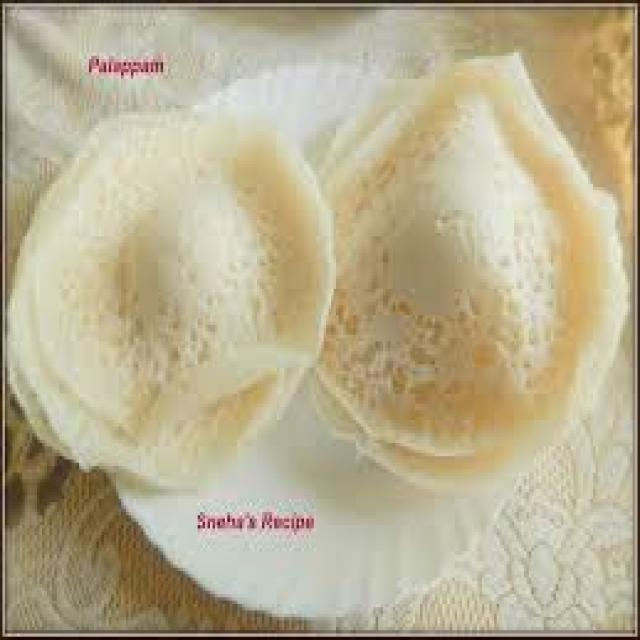appam: (319, 53, 625, 473), (7, 112, 334, 486)
